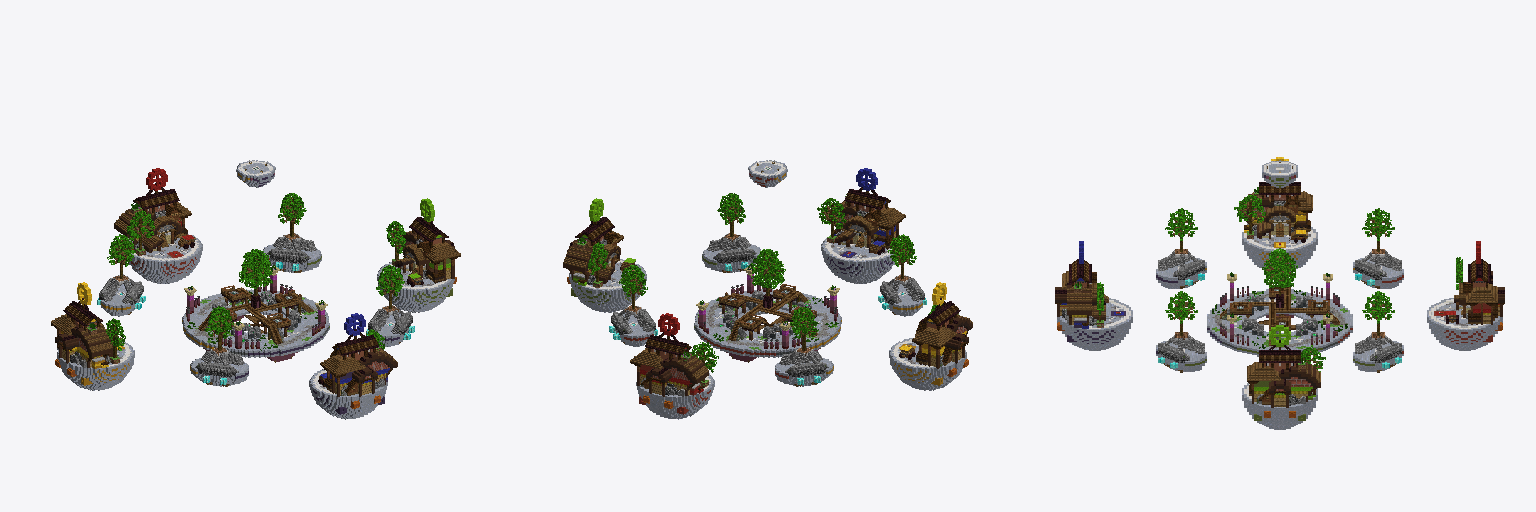
3 renders of one model, left to right at view 1: azimuth 30°, elevation 25°; view 2: azimuth 150°, elevation 25°; view 3: azimuth 270°, elevation 25°, orthographic.
Bounding box in the file's own units: 183 × 81.52 × 183.
91 materials, 87 textured.